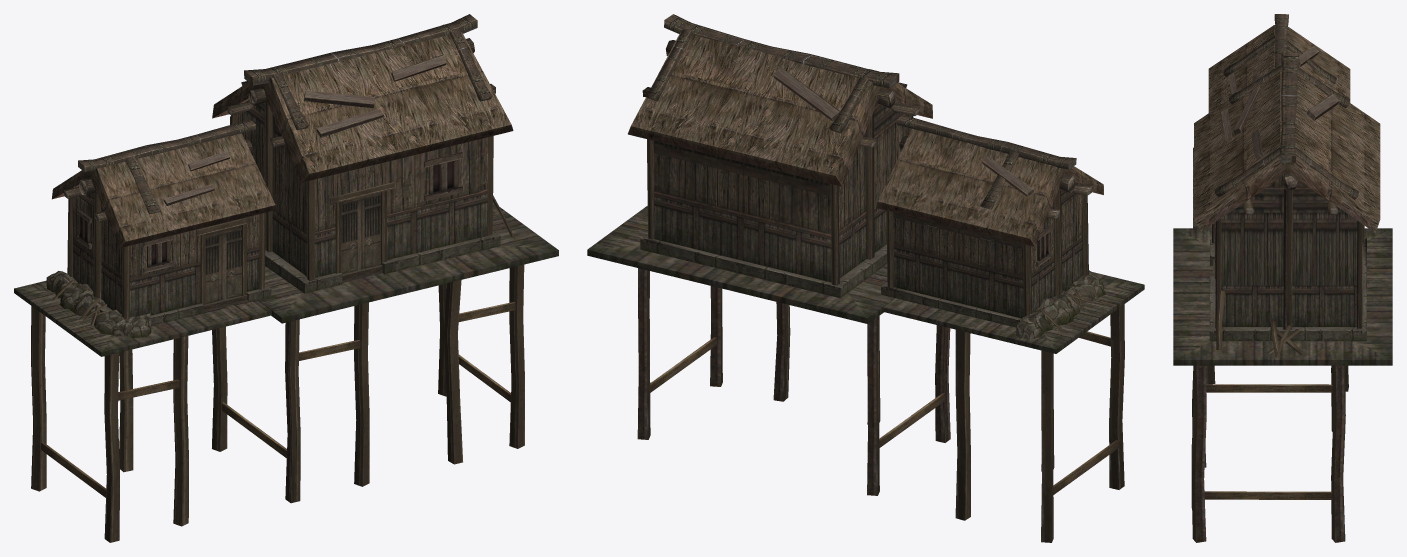
Rendered from s7_hillmaocaowu_uv.FBX.
3 renders of one model, left to right at view 1: azimuth 30°, elevation 25°; view 2: azimuth 150°, elevation 25°; view 3: azimuth 270°, elevation 25°, orthographic. The views are drawn at different scales.
Visible parts, largest first — view 1: s7_maocaofang_b, Object001; view 2: s7_maocaofang_b, Object001; view 3: s7_maocaofang_b, Object001.
Part boxes in pixels (bbox=[...]): s7_maocaofang_b: bbox=[212, 14, 558, 503]; Object001: bbox=[14, 119, 276, 542]; s7_maocaofang_b: bbox=[587, 14, 950, 495]; Object001: bbox=[876, 115, 1144, 542]; s7_maocaofang_b: bbox=[1173, 52, 1392, 542]; Object001: bbox=[1193, 14, 1350, 391].
Bounding box in the file's own units: 77.3 × 65.23 × 33.72.
